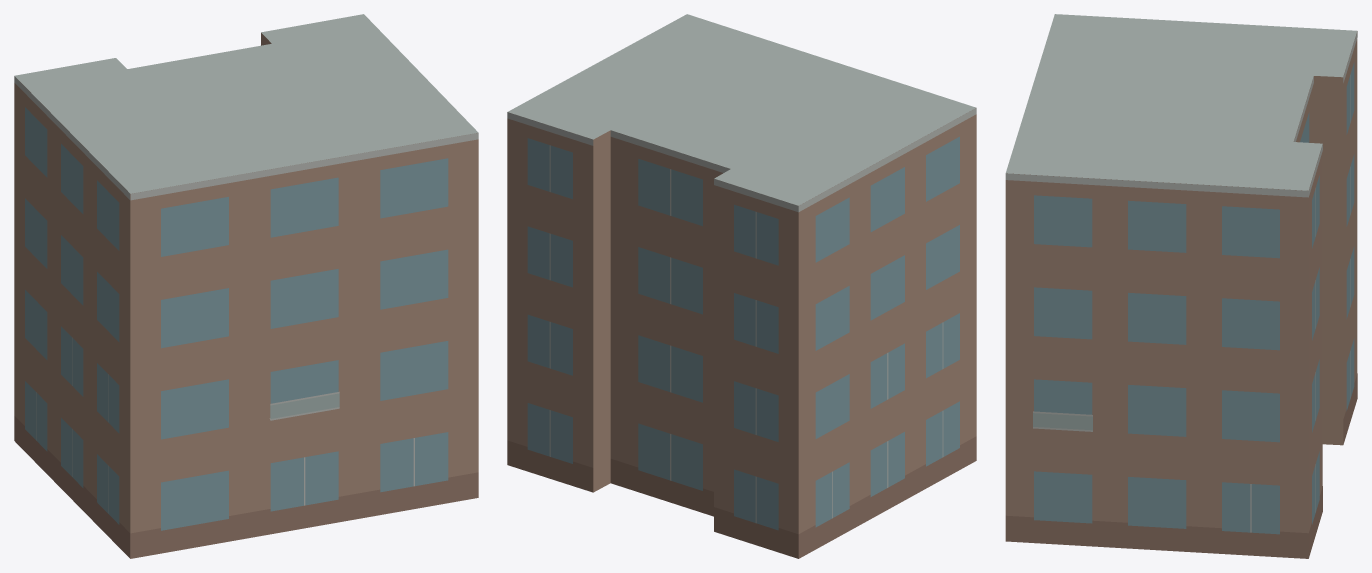
File: survey-upis-32659427.glb
3 renders of one model, left to right at view 1: azimuth 30°, elevation 25°; view 2: azimuth 150°, elevation 25°; view 3: azimuth 270°, elevation 25°, orthographic. The views are drawn at different scales.
Visible parts, largest first — view 1: survey-upis-32659427.tmp; view 2: survey-upis-32659427.tmp; view 3: survey-upis-32659427.tmp.
Part boxes in pixels (x1,y1,x2,y2): survey-upis-32659427.tmp: [14, 14, 478, 558]; survey-upis-32659427.tmp: [507, 14, 976, 558]; survey-upis-32659427.tmp: [1005, 14, 1357, 558].
Size of the model in its own units: 13.81 by 13.4 by 11.62.
